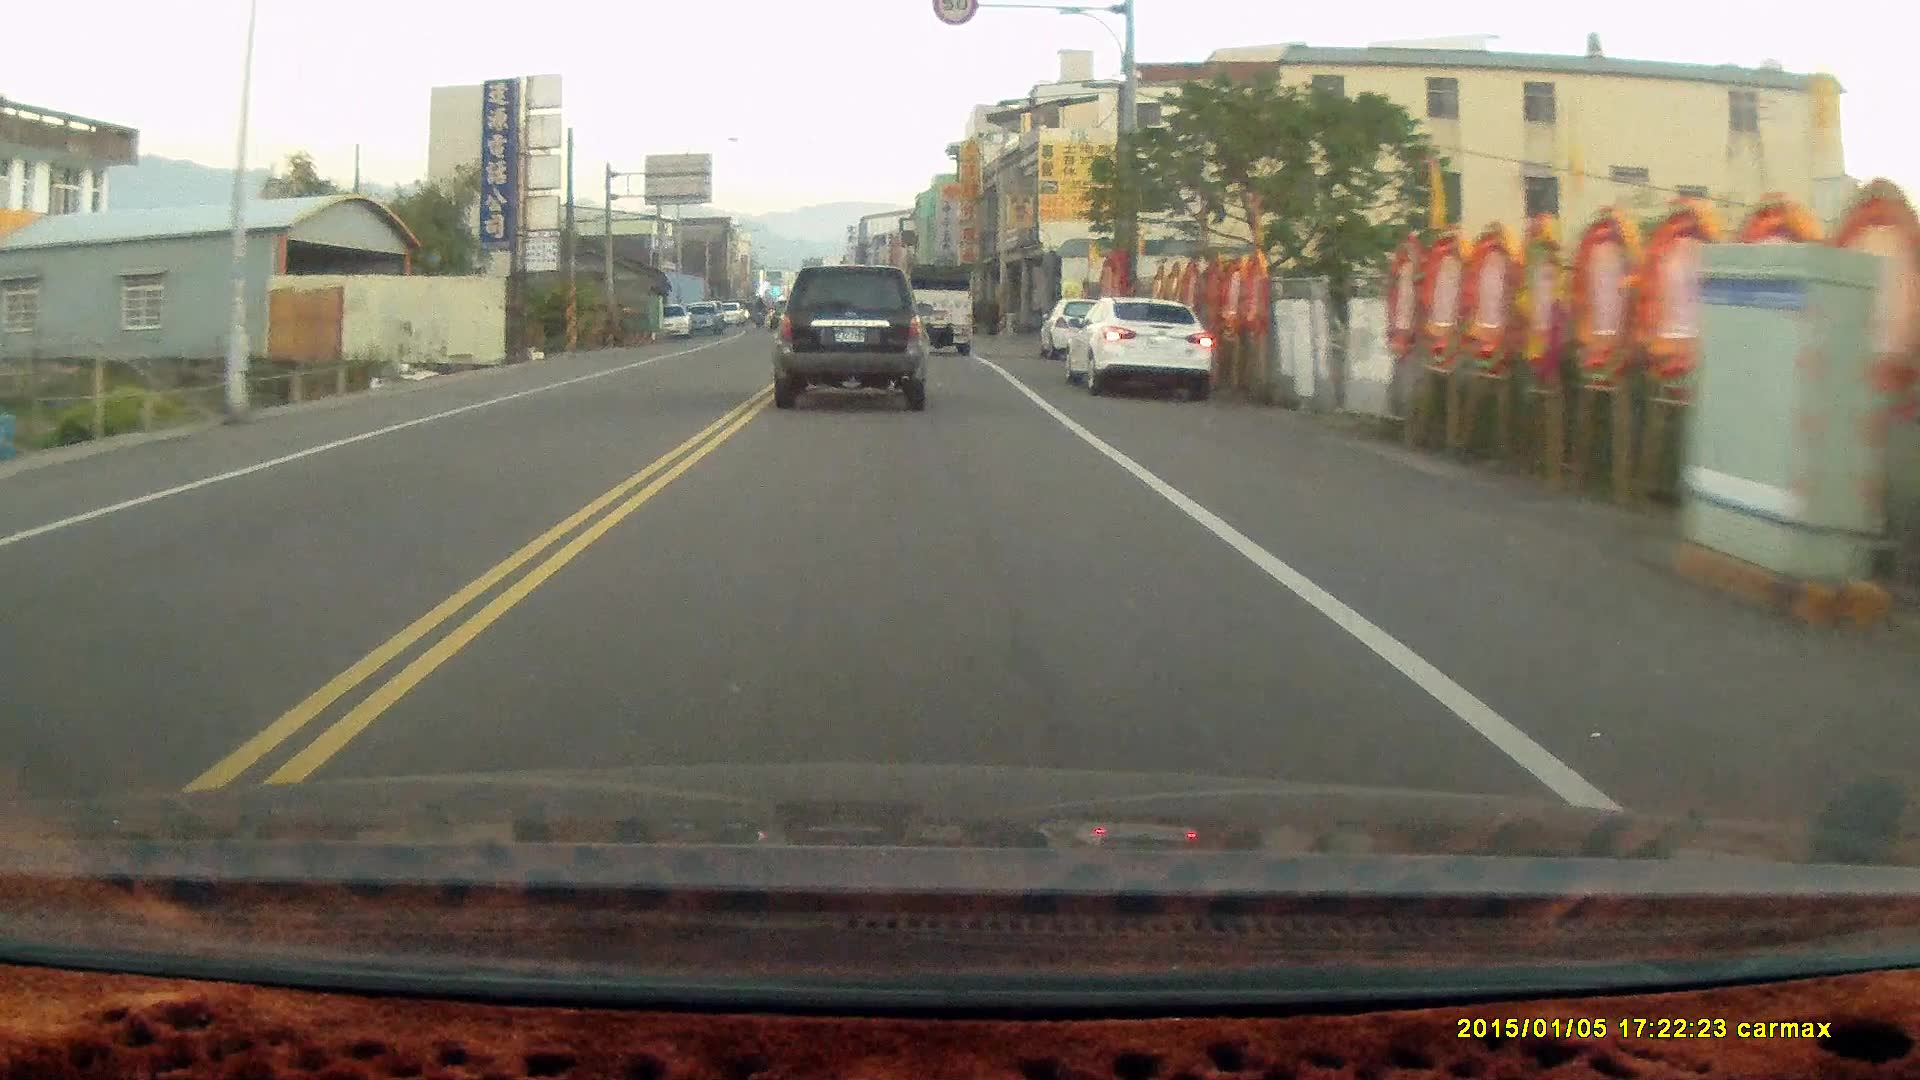vehicle: (771, 262, 934, 413), (1067, 294, 1211, 400), (903, 262, 978, 363)
